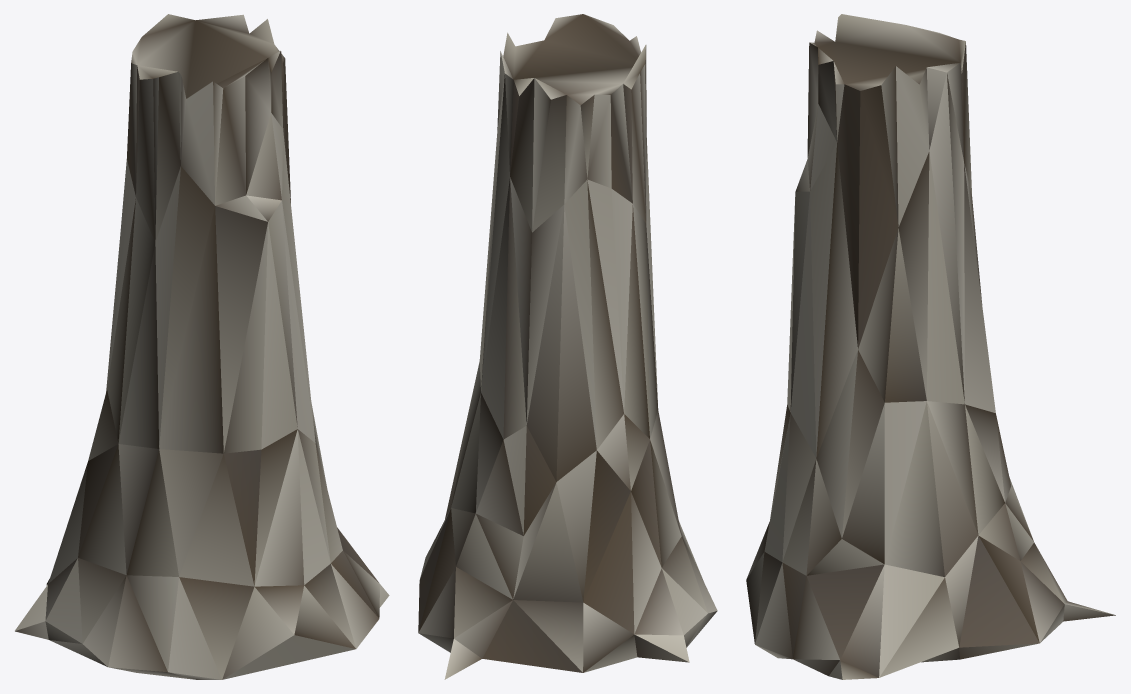
Rendered from aspen_stump.glb.
3 renders of one model, left to right at view 1: azimuth 30°, elevation 25°; view 2: azimuth 150°, elevation 25°; view 3: azimuth 270°, elevation 25°, orthographic. The views are drawn at different scales.
Visible parts, largest first — view 1: Stump; view 2: Stump; view 3: Stump.
Boxes of the visible parts, x1=… form: Stump: x1=15, y1=14, x2=389, y2=679; Stump: x1=418, y1=14, x2=717, y2=679; Stump: x1=746, y1=14, x2=1115, y2=679.
Size of the model in its own units: 0.4126 by 0.7345 by 0.4265.
